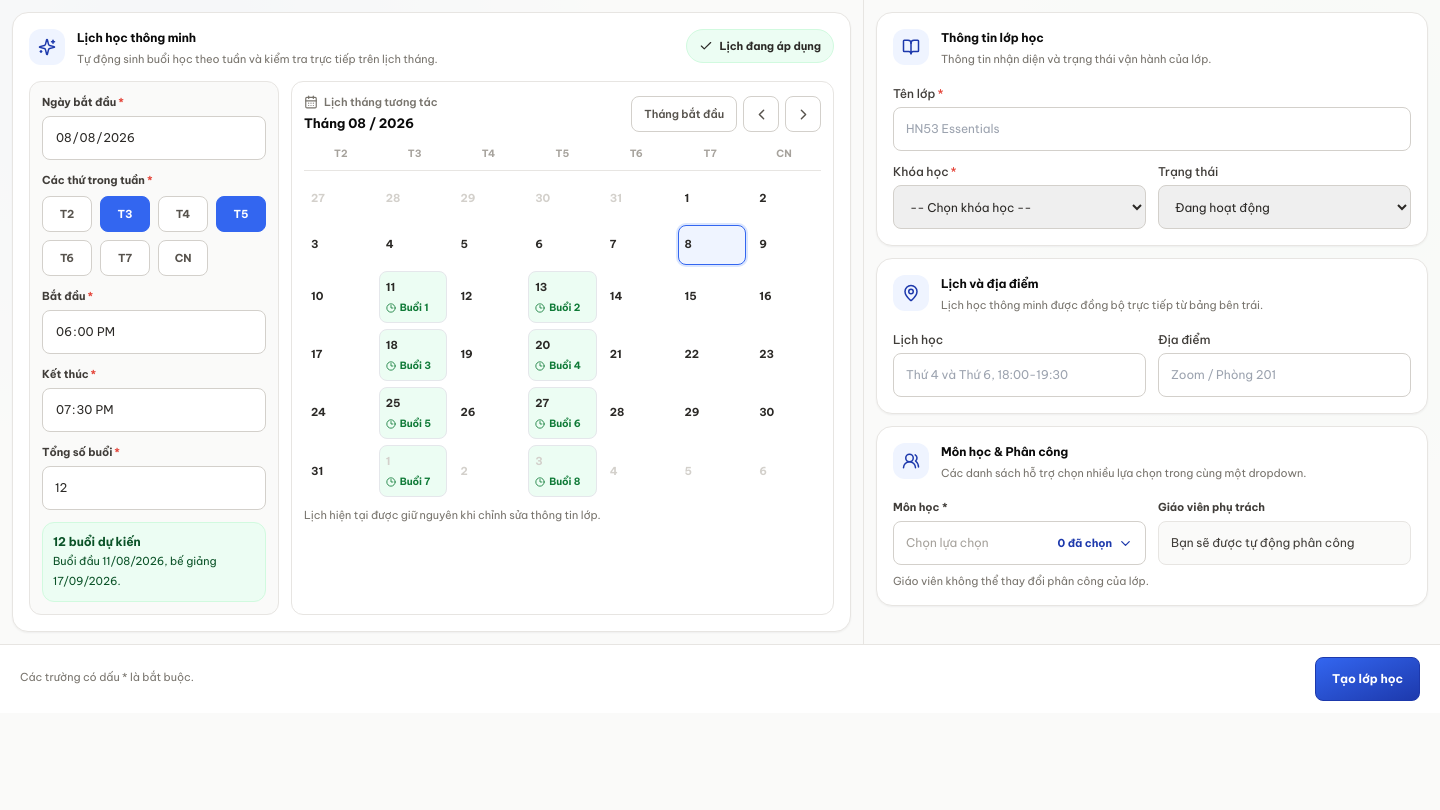
Test: ClassForm › keeps the form visible and reports a save failure
Type "Lớp A1" into the field labelled "Tên lớp*" at (1152, 129), box [893,107,1411,151]
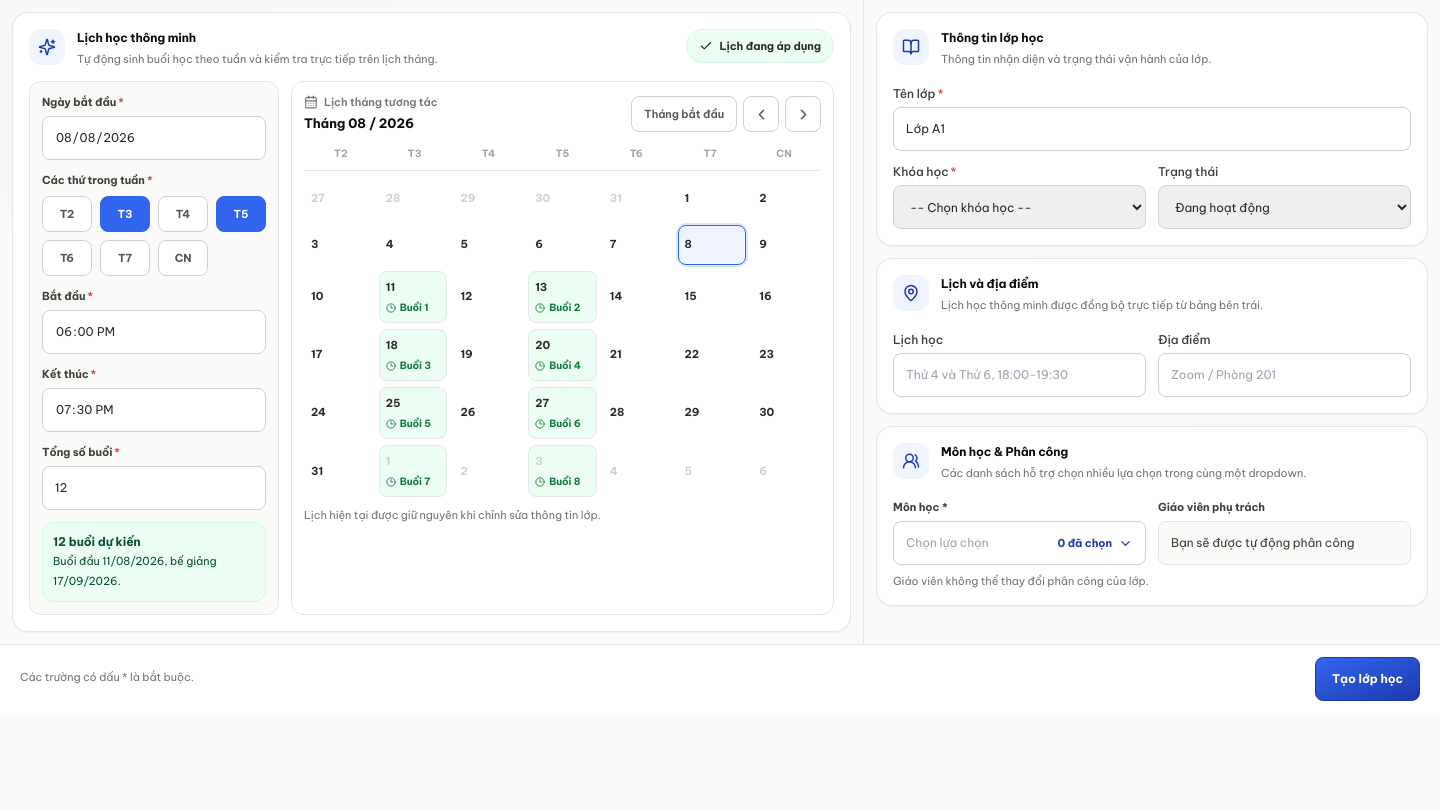
Select "English Foundation" in the dropdown labelled "Khóa học*" at (1020, 207), box [893,185,1146,229]
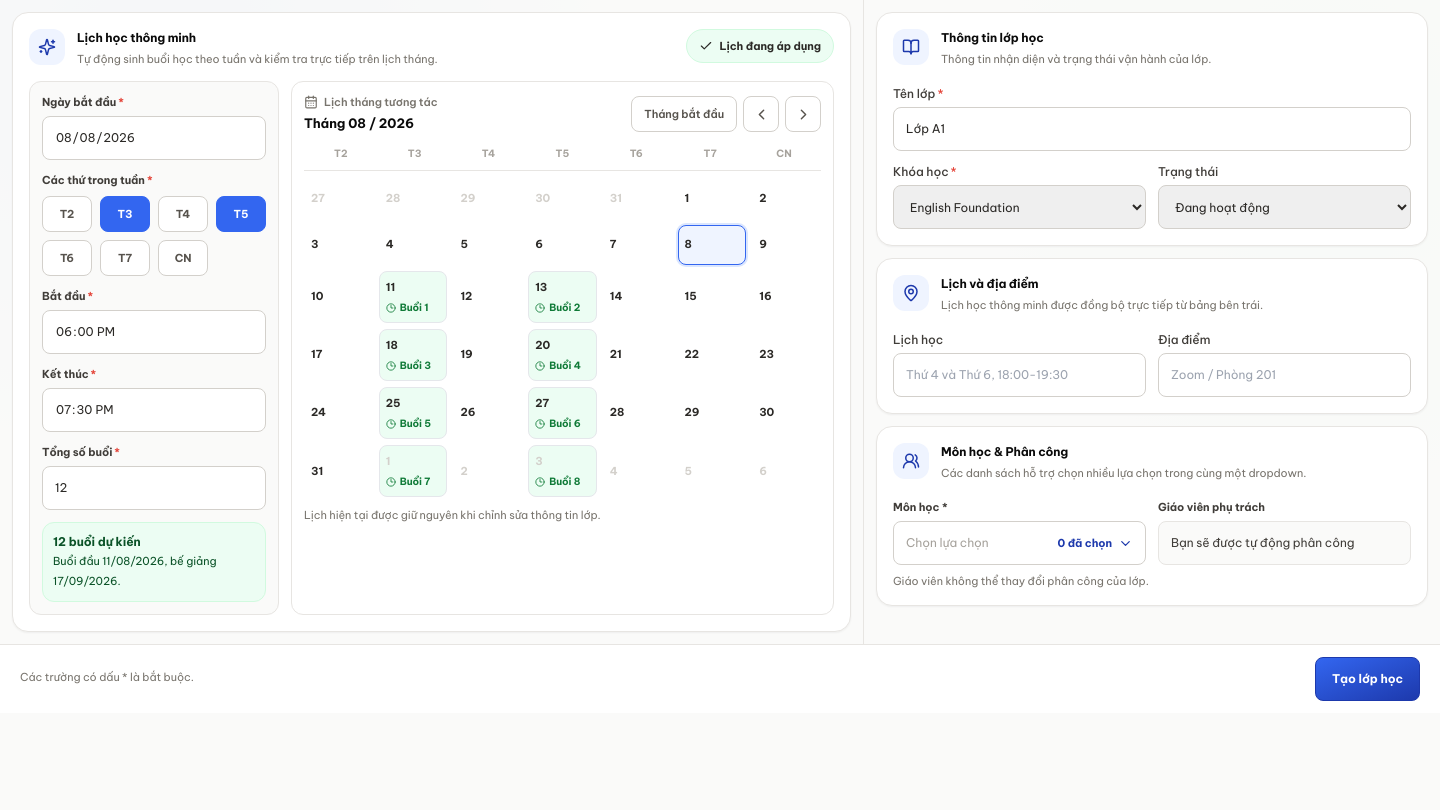
Click the button named "Môn học *" at (1020, 543), box [893,521,1146,565]
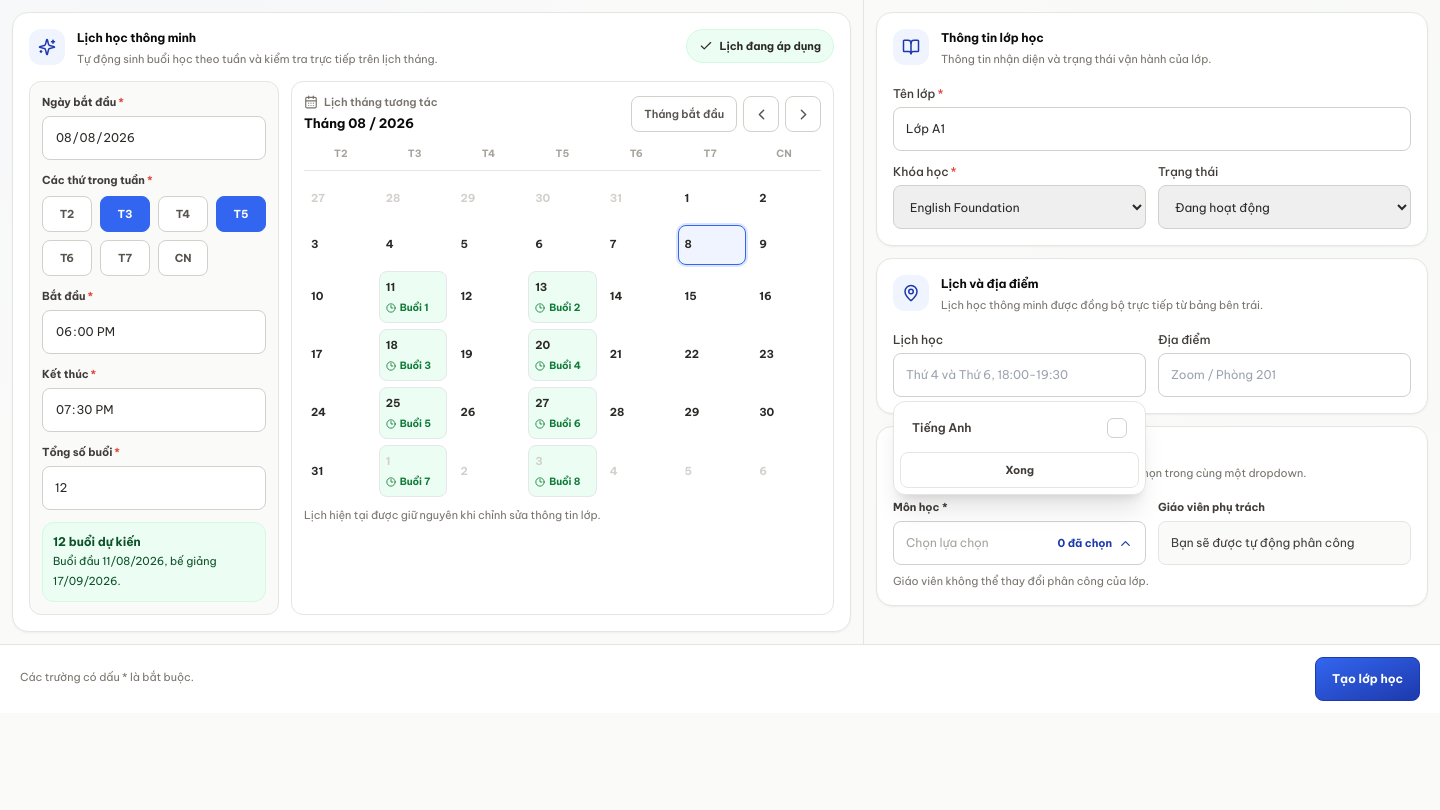
Click the option "Tiếng Anh" at (1020, 428), box [900,408,1139,448]
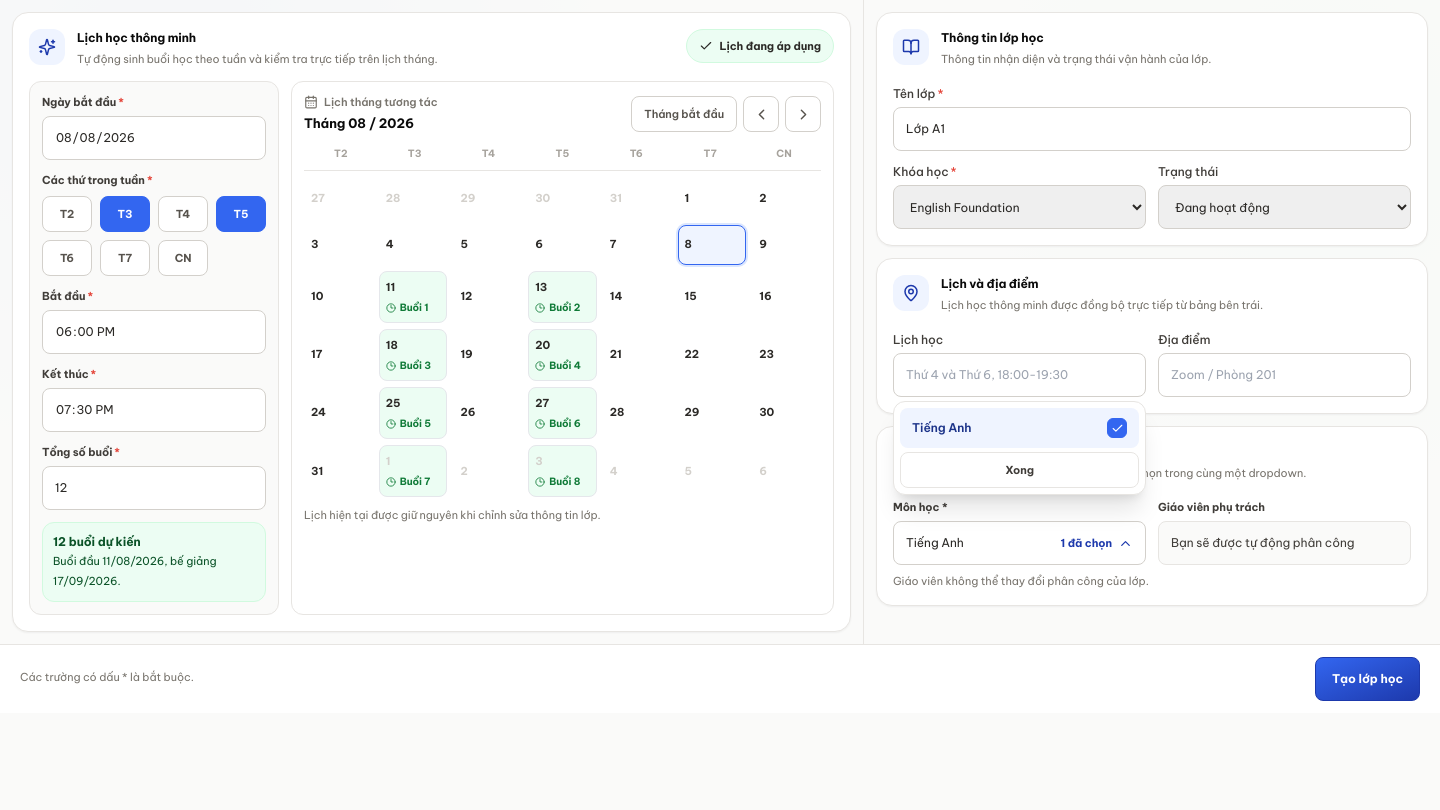
Click the button "Tạo lớp học" at (1367, 679), box [1315,657,1420,701]
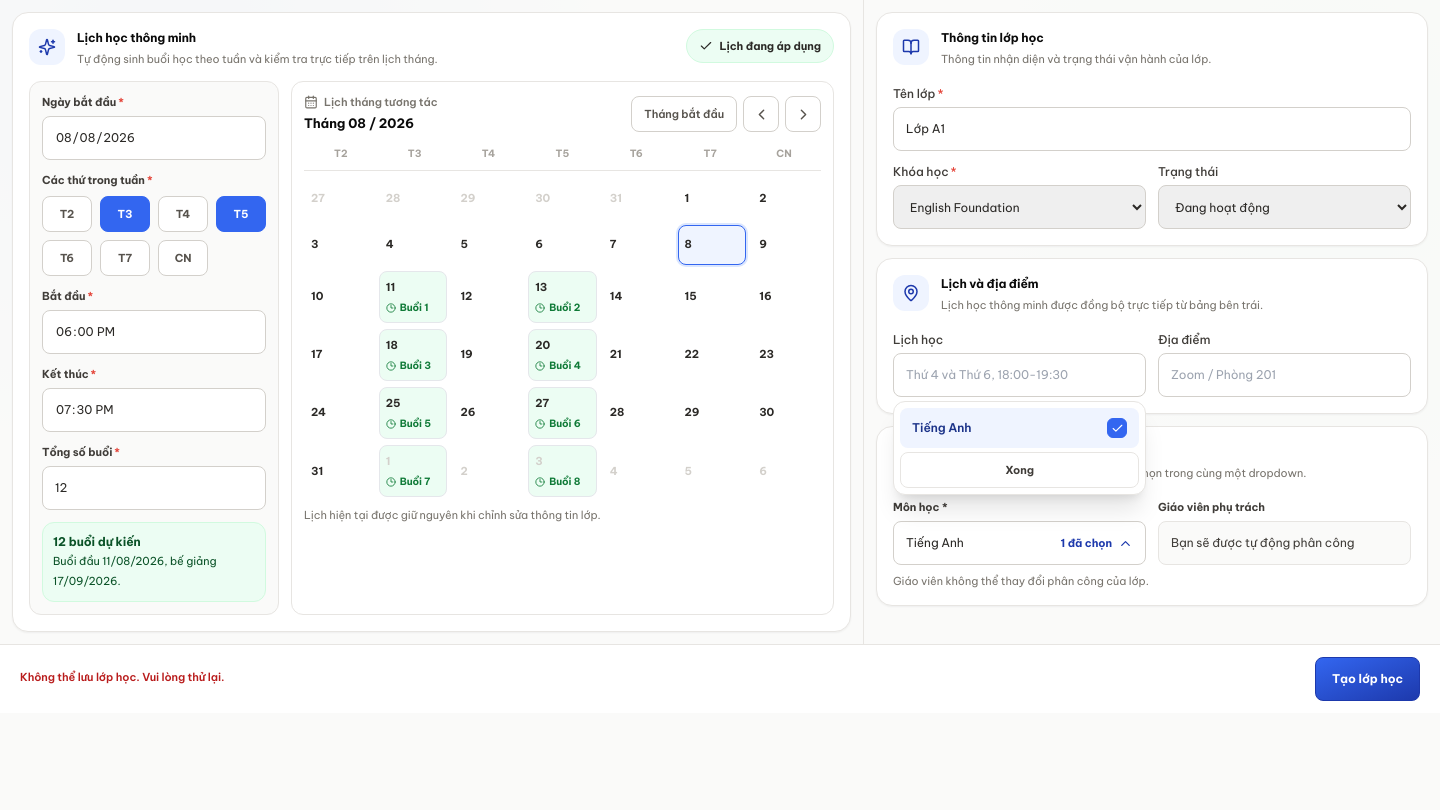
Now the message shows "Không thể lưu lớp học", box [20,670,225,684]
